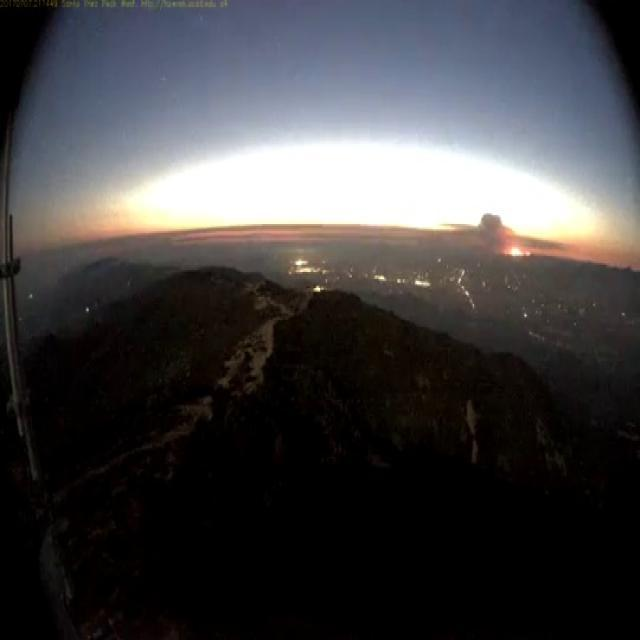Fire: (504, 236, 534, 258)
Smoke: (478, 213, 510, 263)
